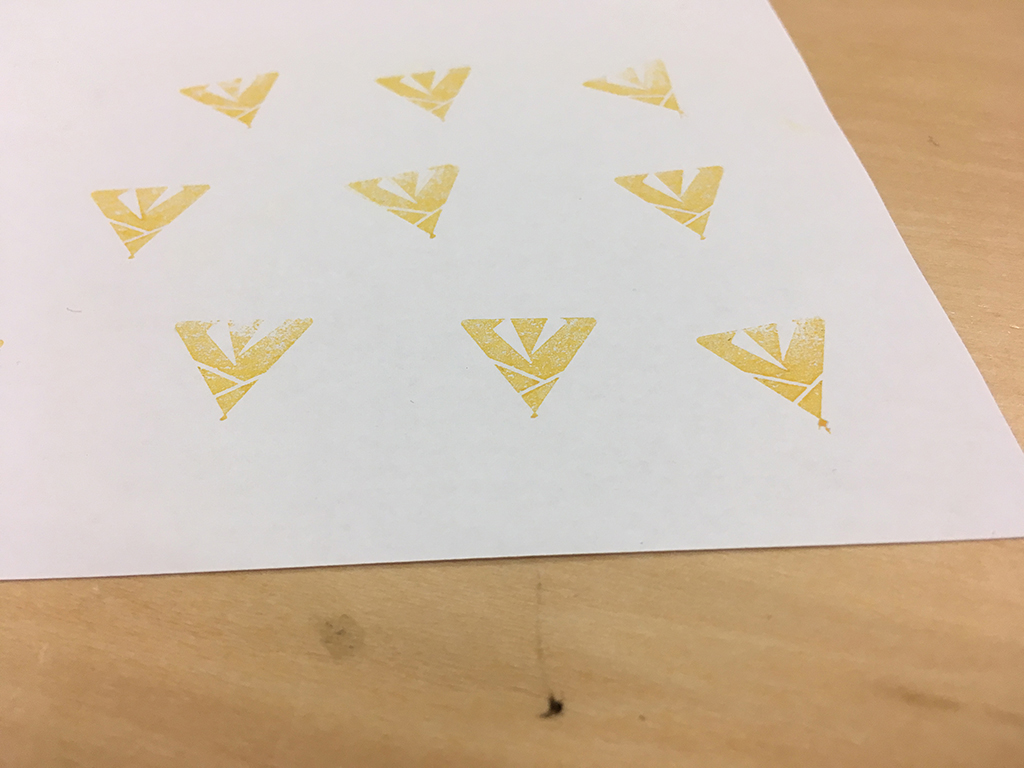tent: (165, 302, 321, 433), (692, 303, 842, 439), (458, 307, 605, 426), (338, 149, 463, 253), (82, 178, 225, 266), (607, 159, 734, 252), (159, 61, 292, 140), (573, 44, 696, 126), (368, 55, 477, 128)
